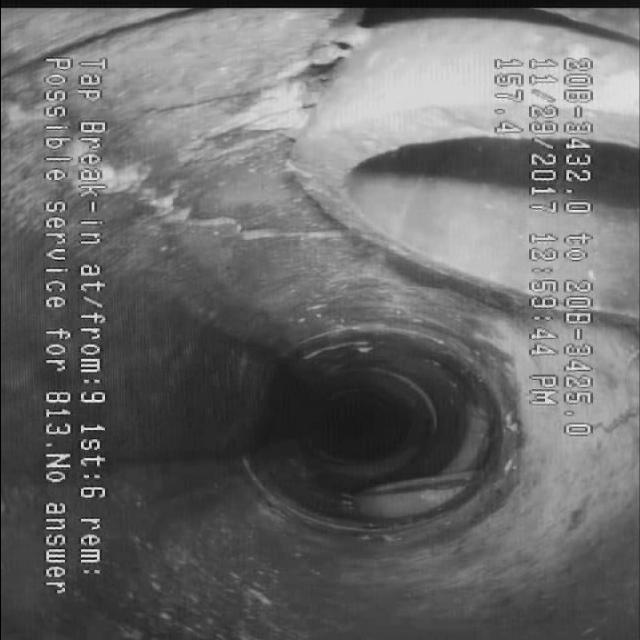Fracture: (151, 195, 352, 259)
